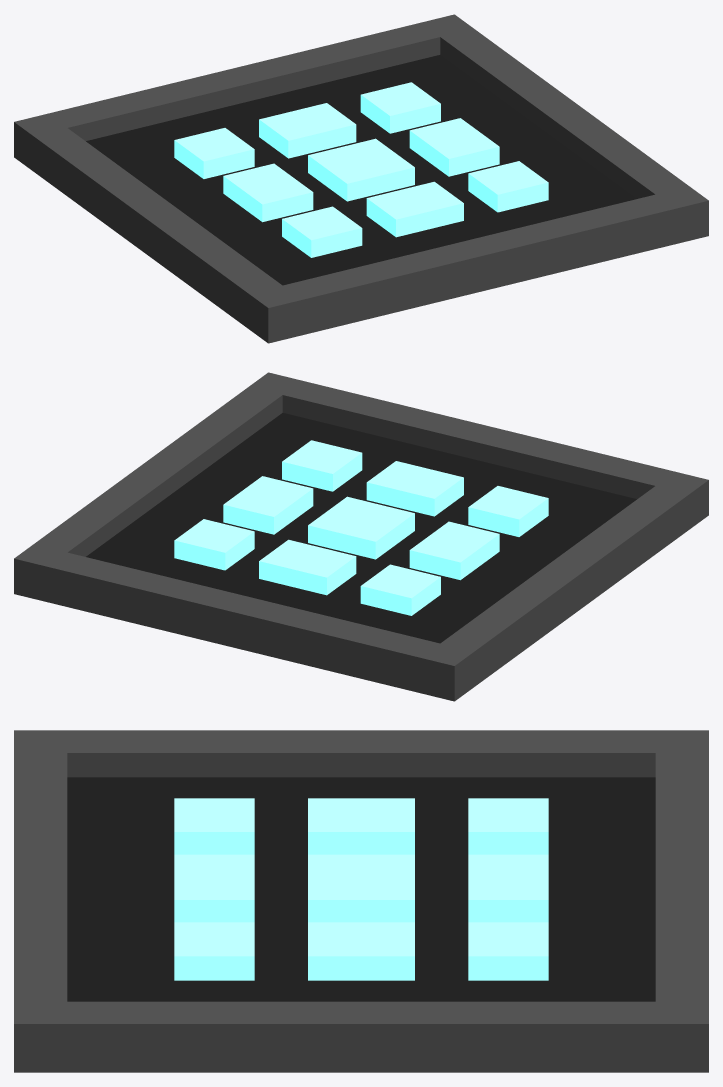
Rendered from trap_DOTS_TEAL.glb.
3 renders of one model, top to bottom at view 1: azimuth 30°, elevation 25°; view 2: azimuth 150°, elevation 25°; view 3: azimuth 270°, elevation 25°, orthographic. The views are drawn at different scales.
Parts seen in each view (by area): view 1: item_TRAP_DOTS_TEAL; view 2: item_TRAP_DOTS_TEAL; view 3: item_TRAP_DOTS_TEAL.
Part boxes in pixels (x1,y1,x2,y2): item_TRAP_DOTS_TEAL: (14, 14, 708, 343); item_TRAP_DOTS_TEAL: (14, 372, 708, 701); item_TRAP_DOTS_TEAL: (14, 730, 708, 1072).
Bounding box in the file's own units: 0.5909 × 0.0455 × 0.5909.
Materials: 1 (1 with a texture image).
